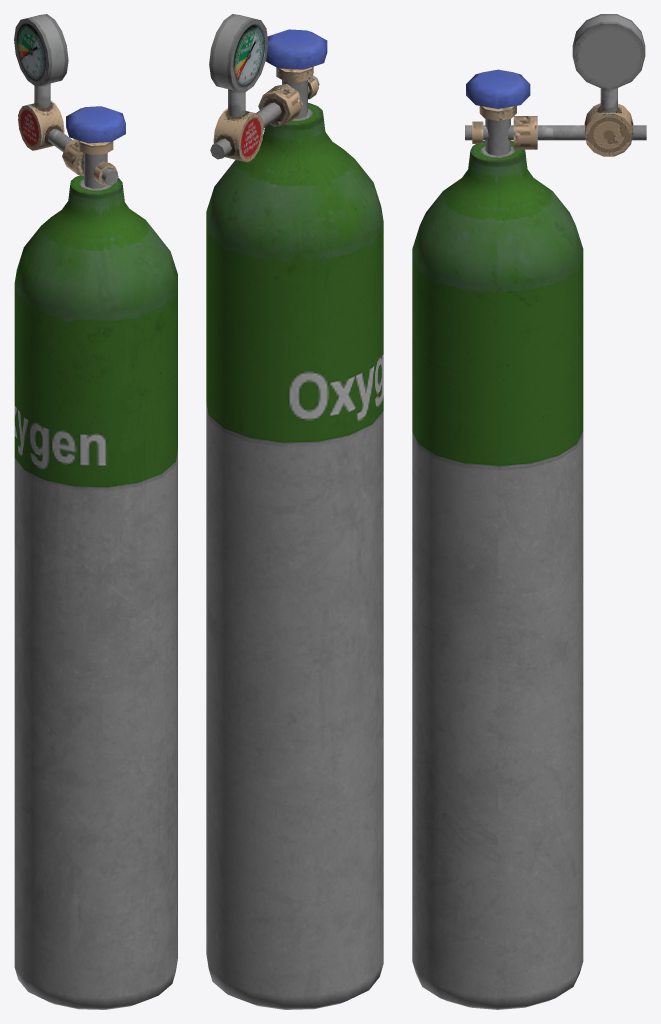
File: HH_Oxygen_Cylinder_01.fbx
3 views of the same model, side by side, from view 1: azimuth 30°, elevation 25°; view 2: azimuth 150°, elevation 25°; view 3: azimuth 270°, elevation 25° (orthographic). The views are drawn at different scales.
Parts seen in each view (by area): view 1: HH_Oxygen_Cylinder_01_LOD0; view 2: HH_Oxygen_Cylinder_01_LOD0; view 3: HH_Oxygen_Cylinder_01_LOD0.
Boxes of the visible parts, <box> form: HH_Oxygen_Cylinder_01_LOD0: <box>14,14,177,1009</box>; HH_Oxygen_Cylinder_01_LOD0: <box>206,14,383,1009</box>; HH_Oxygen_Cylinder_01_LOD0: <box>412,14,646,1009</box>.
Size of what is drawn, in the model's own units: 20.8 by 129 by 28.49.
